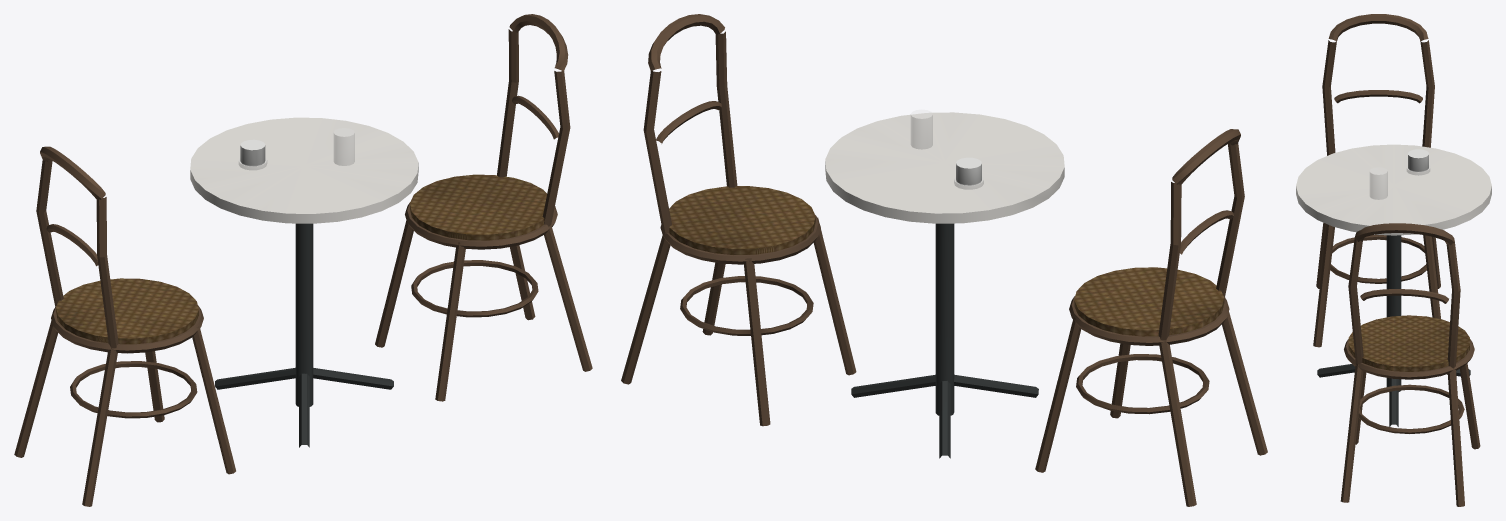
The model's file is cafe_set.glb.
The picture shows the model from 3 angles, left to right: view 1: azimuth 30°, elevation 25°; view 2: azimuth 150°, elevation 25°; view 3: azimuth 270°, elevation 25°; orthographic projection. The views are drawn at different scales.
Parts seen in each view (by area): view 1: CafeSet; view 2: CafeSet; view 3: CafeSet.
Part boxes in pixels (x1,y1,x2,y2): CafeSet: (14, 14, 592, 506); CafeSet: (621, 14, 1267, 506); CafeSet: (1296, 14, 1491, 506).
Bounding box in the file's own units: 1.72 × 0.9968 × 0.6399.
Materials: 6 (1 with a texture image).
